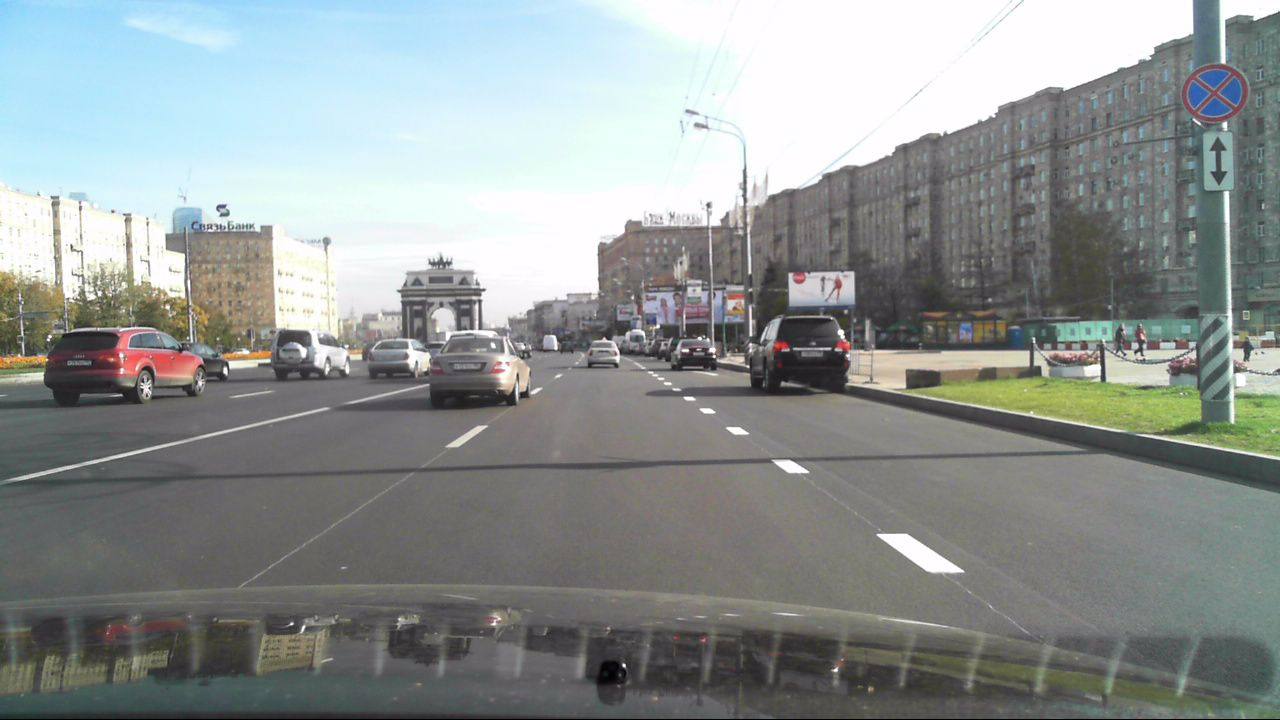No Parking: (1179, 62, 1252, 125)
